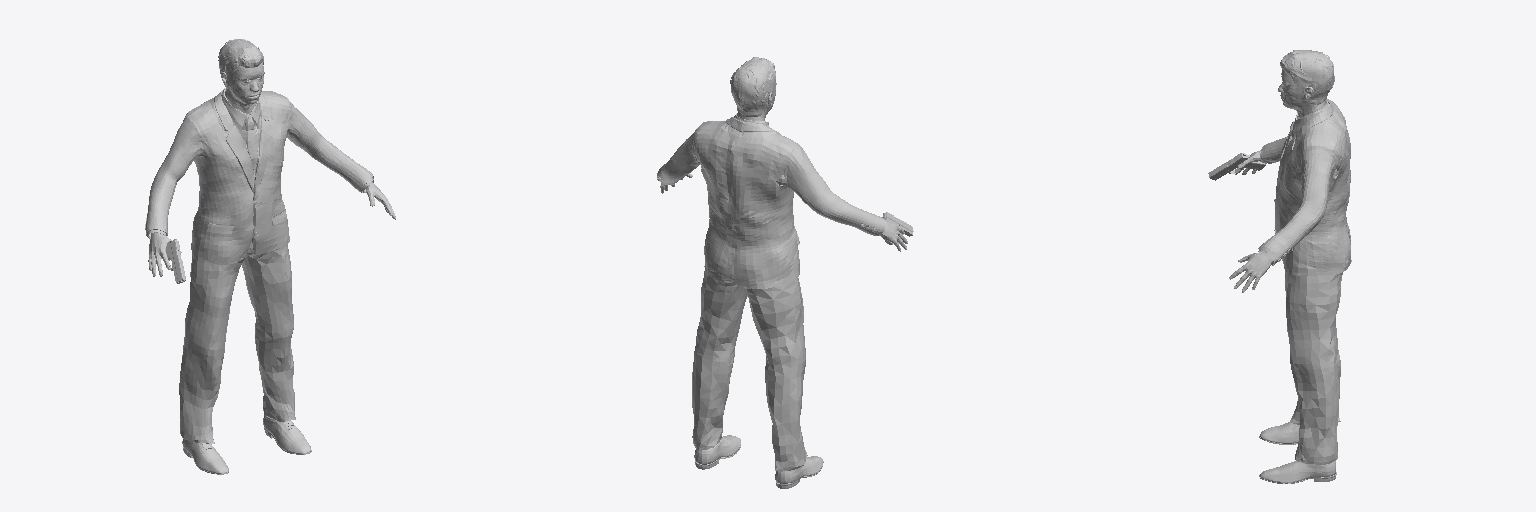
Rendered from Man_with_suit.obj.
3 views of the same model, side by side, from view 1: azimuth 30°, elevation 25°; view 2: azimuth 150°, elevation 25°; view 3: azimuth 270°, elevation 25° (orthographic).
Parts seen in each view (by area): view 1: male_elegant_suit, man_with_suit, shoes_oxford_male, hair; view 2: male_elegant_suit, hair, shoes_oxford_male, man_with_suit; view 3: male_elegant_suit, man_with_suit, shoes_oxford_male, hair, gun.
Boxes of the visible parts, x1=… form: male_elegant_suit: x1=145, y1=88, x2=373, y2=443; man_with_suit: x1=148, y1=62, x2=395, y2=276; shoes_oxford_male: x1=182, y1=414, x2=311, y2=474; hair: x1=218, y1=39, x2=263, y2=88; male_elegant_suit: x1=657, y1=114, x2=886, y2=471; hair: x1=730, y1=57, x2=775, y2=116; shoes_oxford_male: x1=694, y1=435, x2=823, y2=488; man_with_suit: x1=660, y1=82, x2=907, y2=251; male_elegant_suit: x1=1258, y1=99, x2=1351, y2=464; man_with_suit: x1=1229, y1=69, x2=1325, y2=292; shoes_oxford_male: x1=1259, y1=422, x2=1336, y2=483; hair: x1=1280, y1=50, x2=1334, y2=104; gun: x1=1208, y1=153, x2=1265, y2=180.
Bounding box in the file's own units: 1.08 × 1.74 × 0.5542.